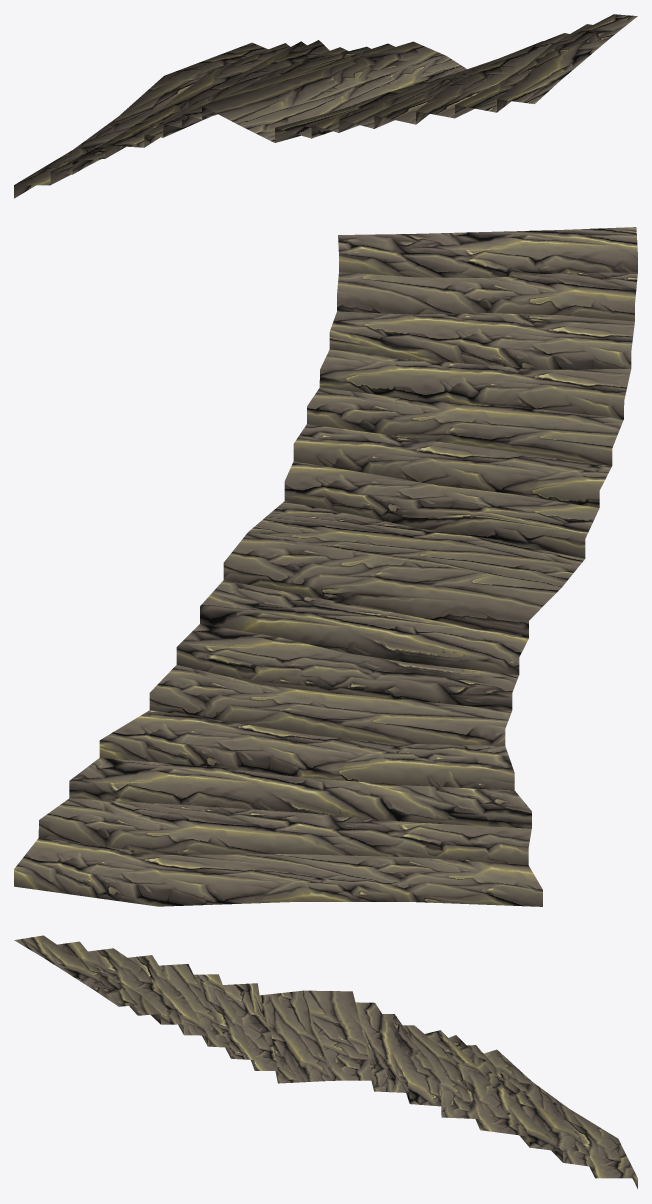
File: Prop_HubArenaStair_01.FBX
3 renders of one model, top to bottom at view 1: azimuth 30°, elevation 25°; view 2: azimuth 150°, elevation 25°; view 3: azimuth 270°, elevation 25°, orthographic. The views are drawn at different scales.
Visible parts, largest first — view 1: Prop_HubArenaStair_01; view 2: Prop_HubArenaStair_01; view 3: Prop_HubArenaStair_01.
Part boxes in pixels (bbox=[...]): Prop_HubArenaStair_01: bbox=[14, 14, 637, 198]; Prop_HubArenaStair_01: bbox=[14, 227, 637, 906]; Prop_HubArenaStair_01: bbox=[14, 935, 637, 1188].
Bounding box in the file's own units: 9.57 × 6 × 16.22.
